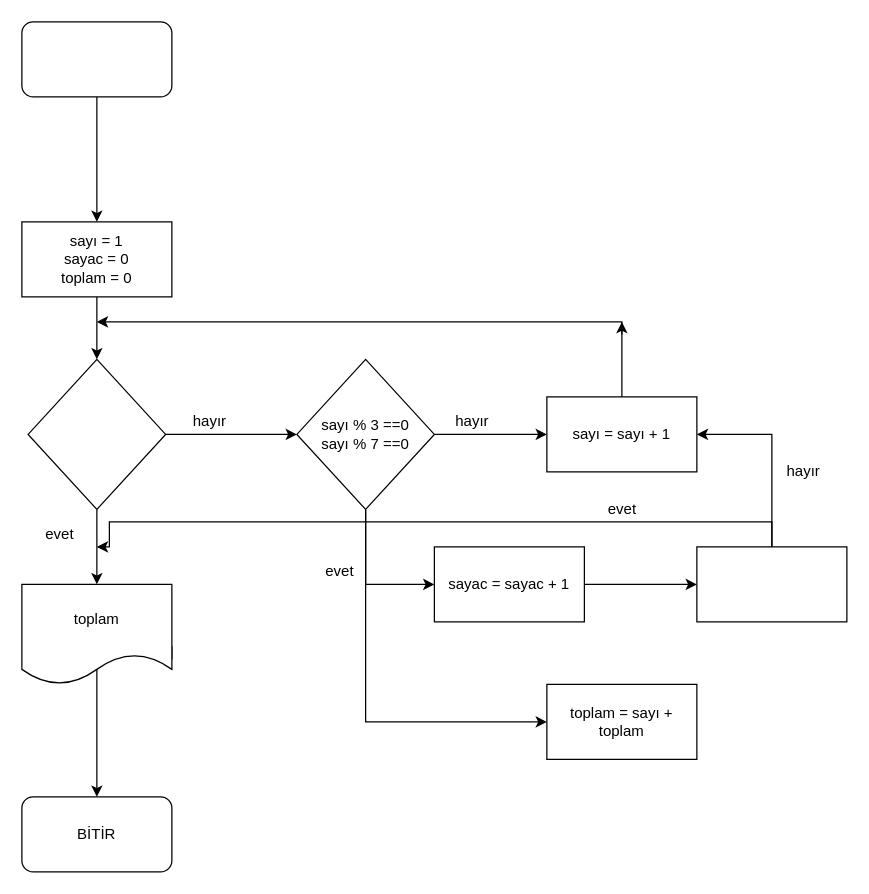
Image size: 869x894. Some labels were removed from this diagram. Here are the shapes that lost their labels. From the top down, the box of each, then its label:
(21, 21, 172, 97): BAŞLA
(27, 358, 166, 509): sayı < 1000
(696, 546, 847, 622): sayac = 10
